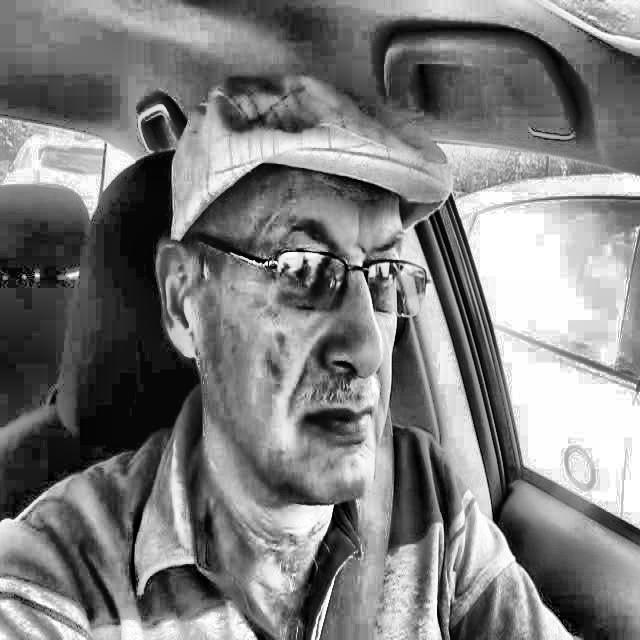closed_mouth: (288, 387, 389, 461)
